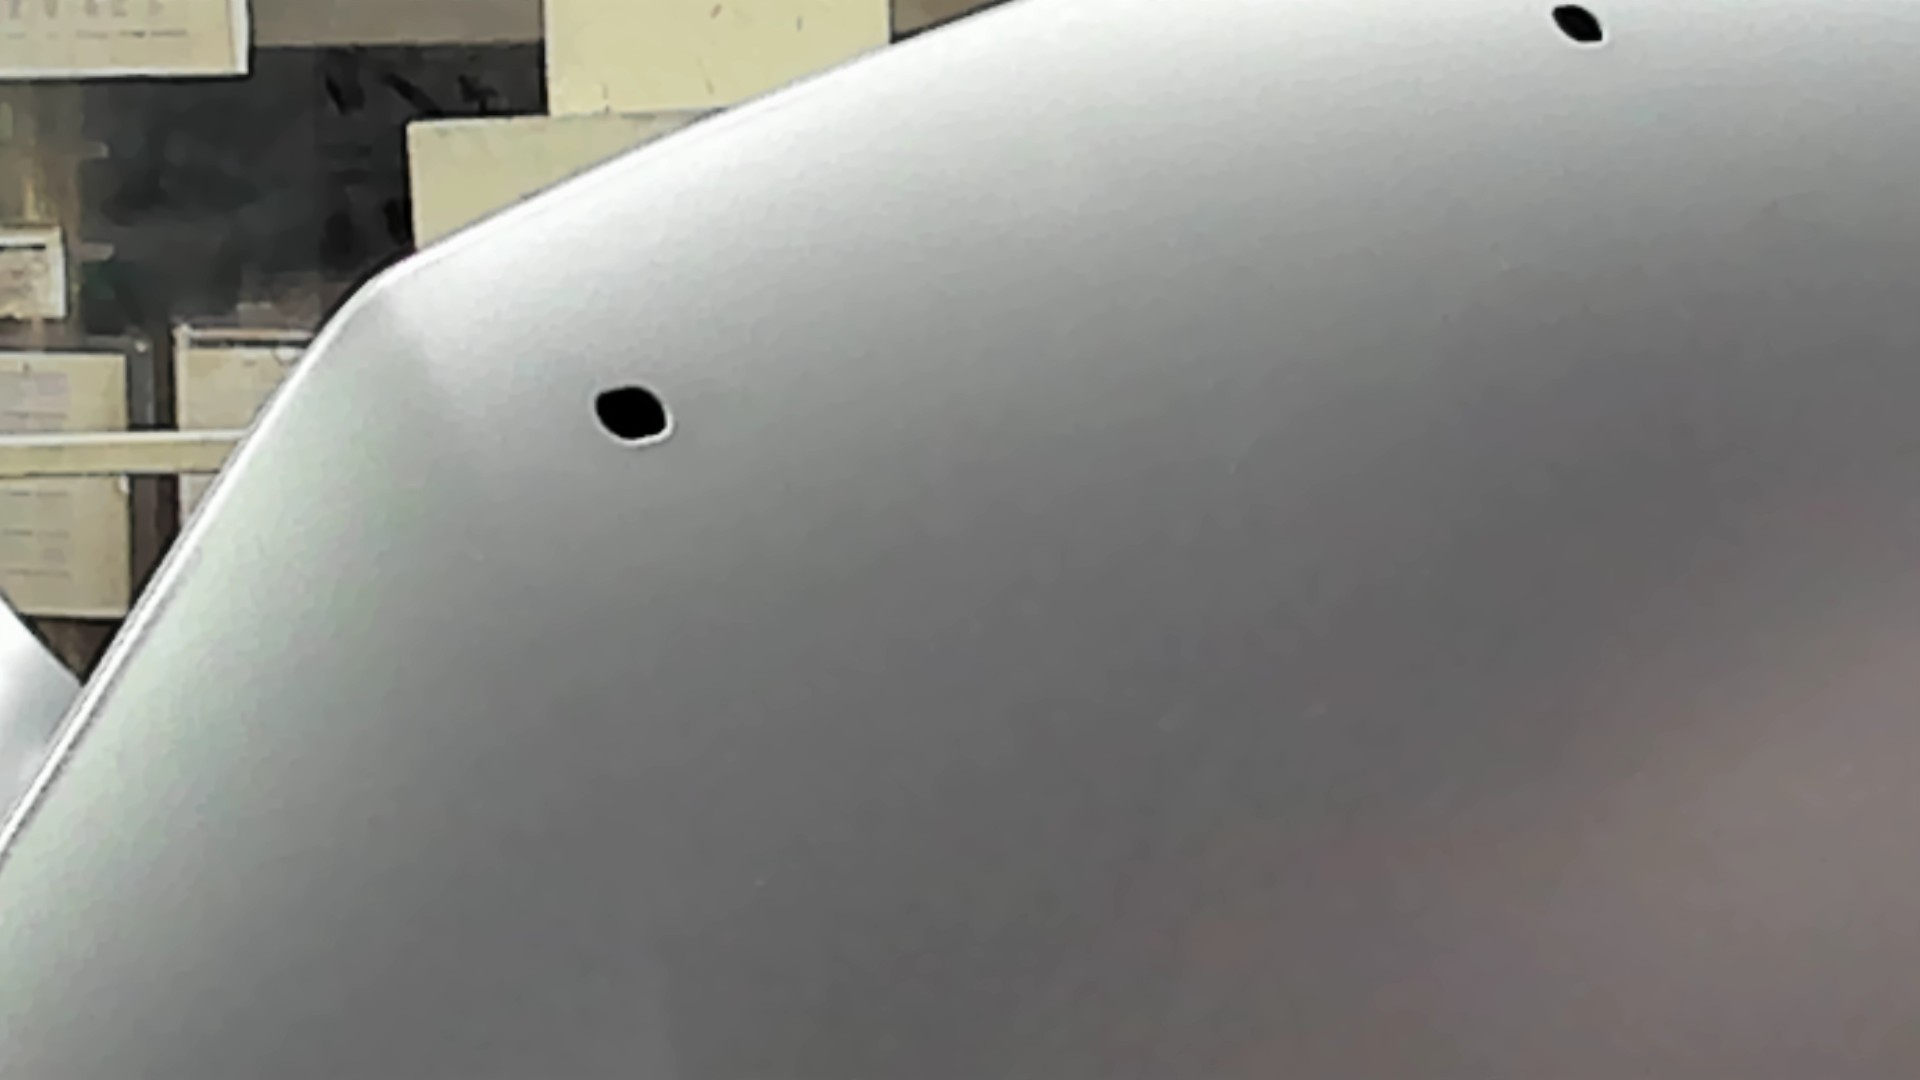amorfo: (584, 377, 679, 447), (1545, 1, 1607, 50)
capo: (744, 135, 1920, 1080)
